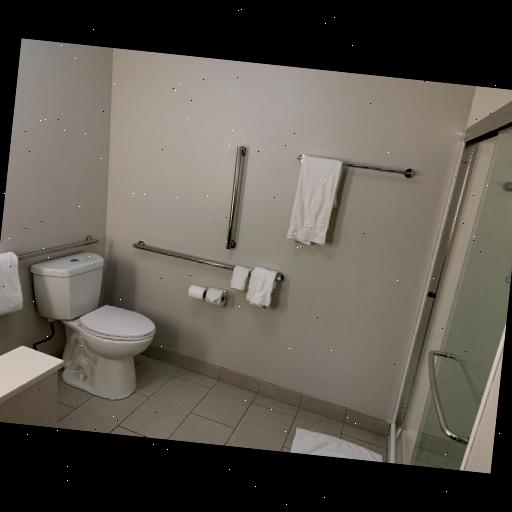clean_floor: (52, 355, 391, 453)
clean_toilet: (20, 226, 168, 403)
folded_towel: (284, 154, 342, 252), (226, 262, 294, 311)
